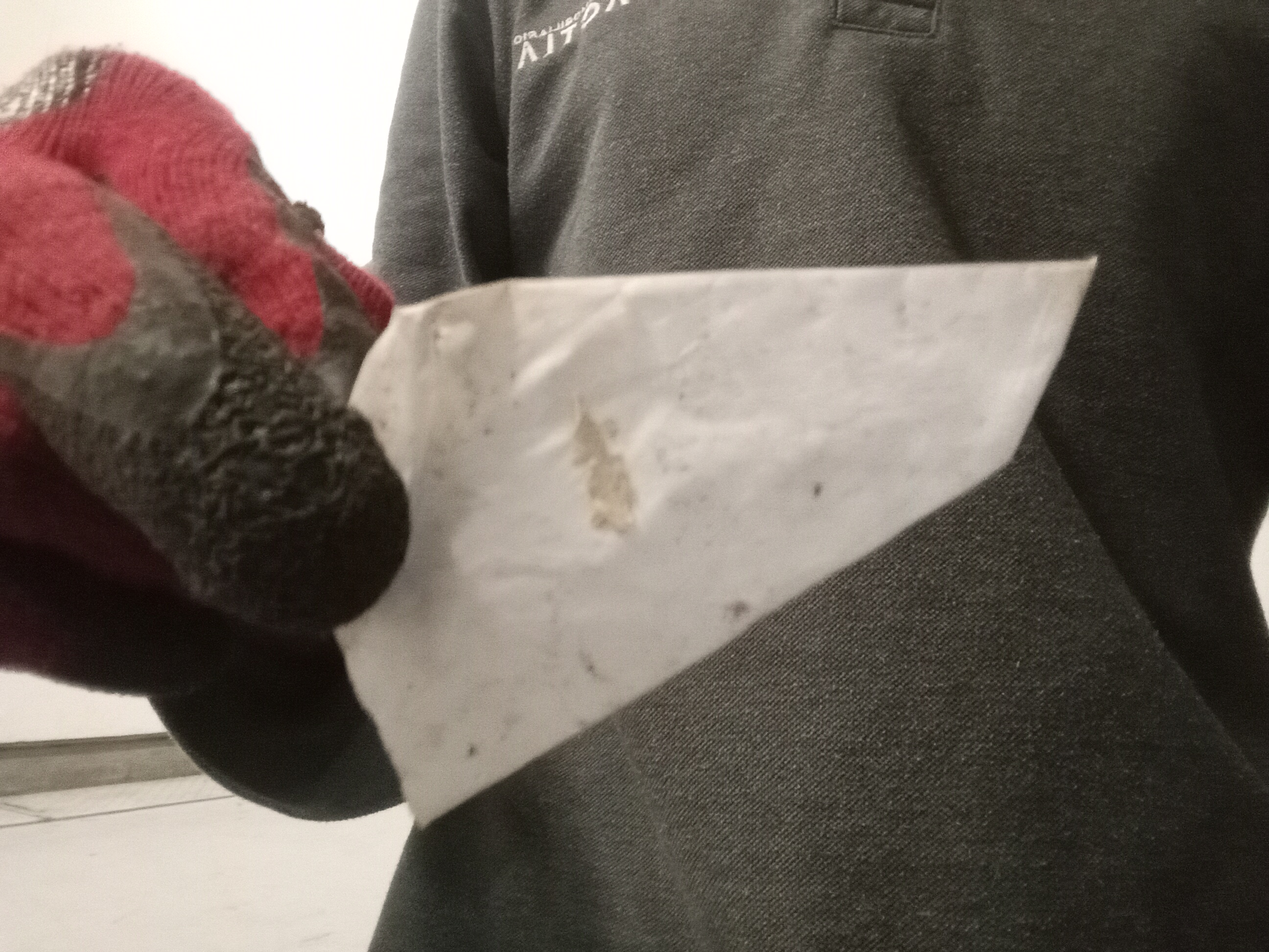Papel: (332, 251, 1096, 833)
